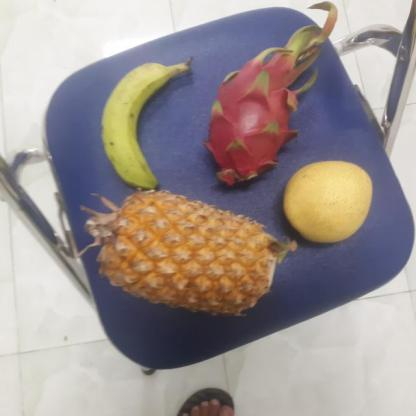banana: (97, 60, 187, 186)
pear: (278, 161, 374, 243)
pineapple: (85, 184, 285, 310)
pitaya: (200, 62, 302, 185)
